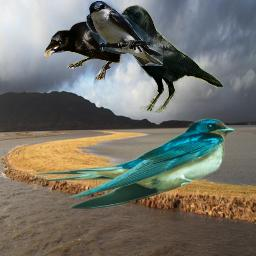Crow: (110, 5, 224, 113), (43, 20, 157, 80)
Swallow: (30, 118, 235, 211), (86, 1, 163, 66)
